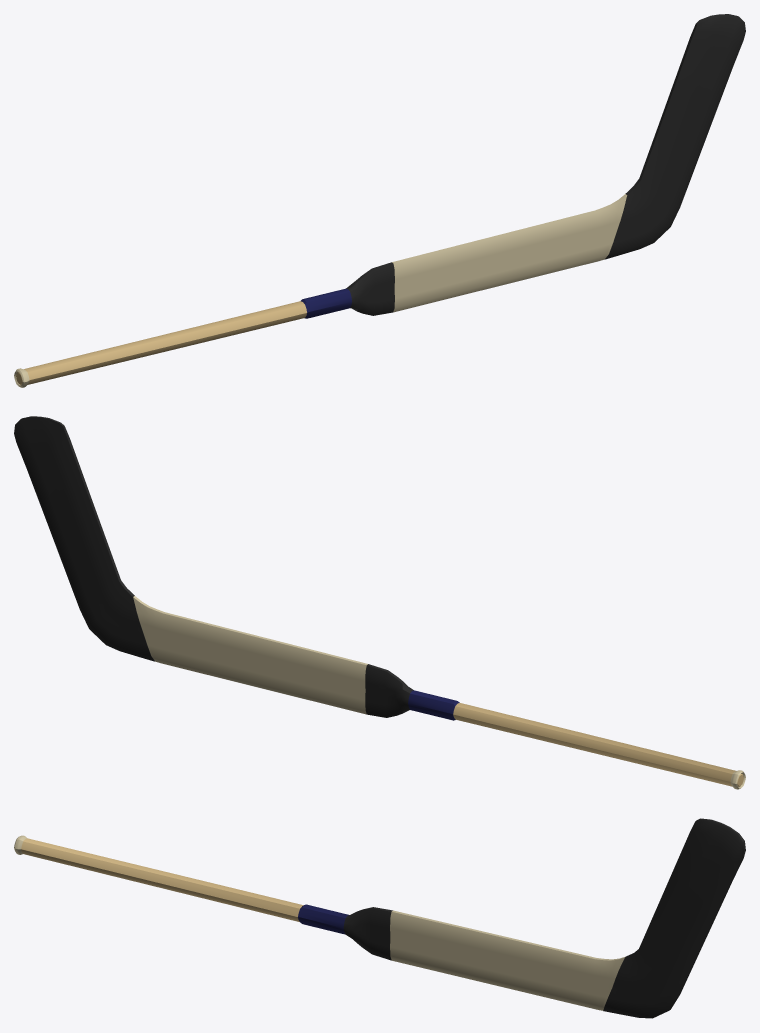
Rendered from HockeyStick.fbx.
3 views of the same model, one above another, from view 1: azimuth 30°, elevation 25°; view 2: azimuth 150°, elevation 25°; view 3: azimuth 330°, elevation 25° (orthographic).
Visible parts, largest first — view 1: HockeyStick; view 2: HockeyStick; view 3: HockeyStick.
Part boxes in pixels (bbox=[...]): HockeyStick: bbox=[14, 14, 745, 387]; HockeyStick: bbox=[14, 416, 745, 789]; HockeyStick: bbox=[14, 818, 745, 1018].
Bounding box in the file's own units: 721 × 207 × 17.54.
